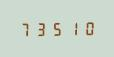five: (48, 20, 62, 36)
one: (63, 19, 77, 36)
seven: (18, 20, 32, 37)
three: (33, 20, 47, 37)
zero: (78, 19, 92, 36)
